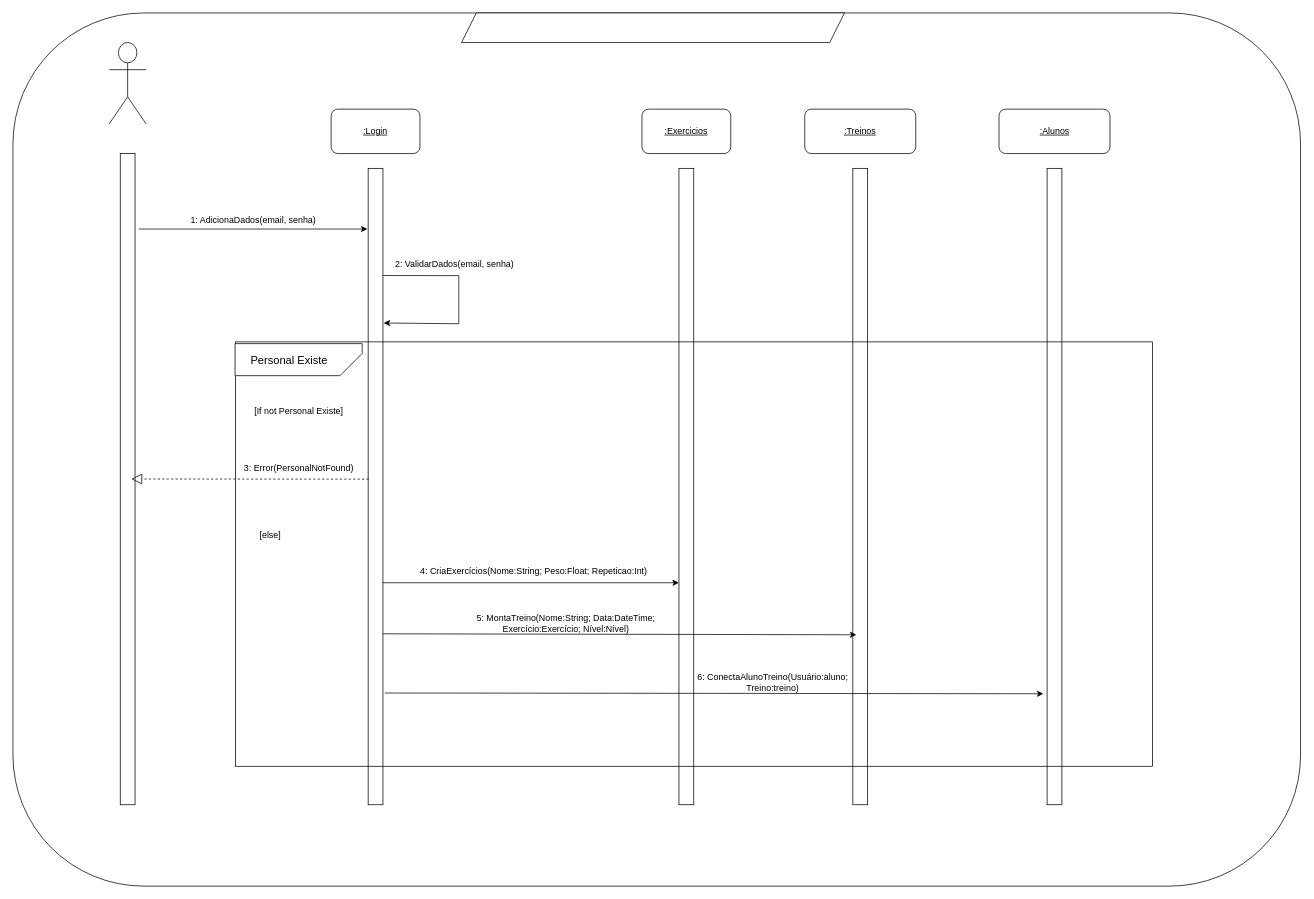
Image size: 1314x899. Some labels were removed from this diagram. The shapes that lost their labels are listed below. From the top down, each one's centre as x and y in pixels, then its label:
[652,27]: Diagrama de Sequência - Prescrever Treinos
[127,83]: :Personal
